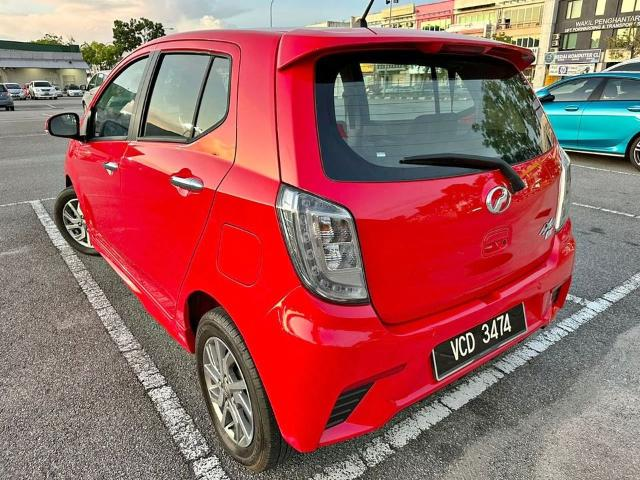License_Plate: (438, 307, 524, 369)
car: (47, 28, 584, 473)
